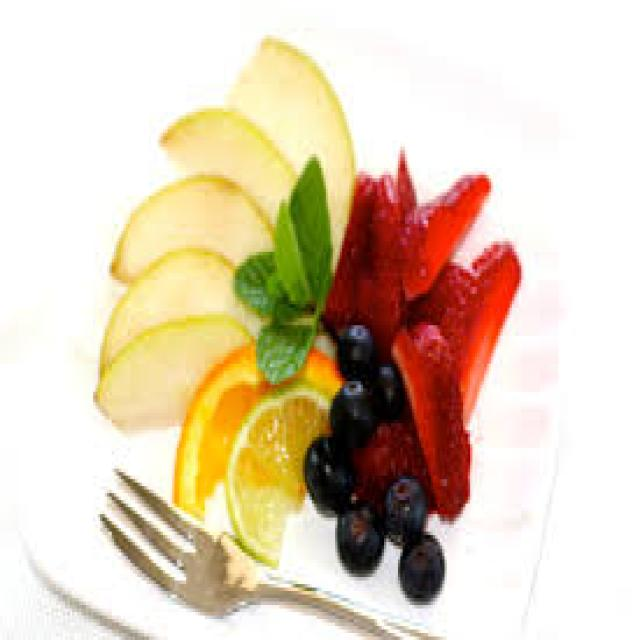Organik: (98, 22, 352, 375), (348, 155, 522, 514), (308, 328, 450, 599), (182, 327, 340, 557)
